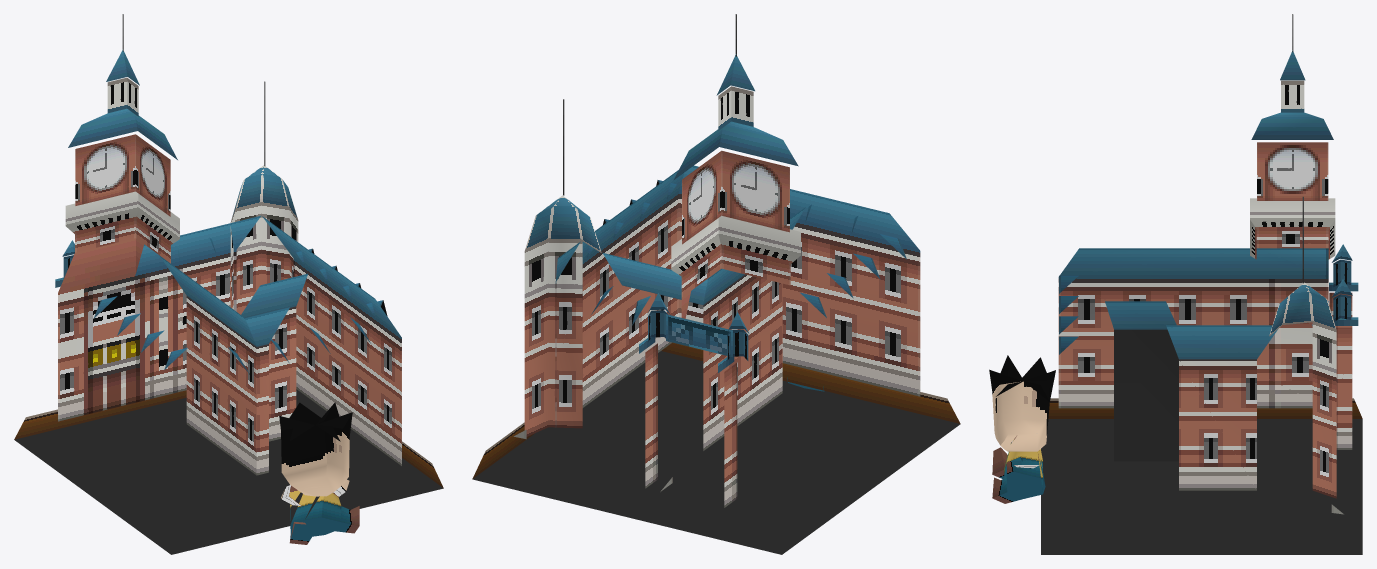
File: ps2_save-icons_sakurataisenatsukichishioni.glb
3 renders of one model, left to right at view 1: azimuth 30°, elevation 25°; view 2: azimuth 150°, elevation 25°; view 3: azimuth 270°, elevation 25°, orthographic. The views are drawn at different scales.
Parts seen in each view (by area): view 1: icon.ico; view 2: icon.ico; view 3: icon.ico.
Part boxes in pixels (x1,y1,x2,y2): icon.ico: (14, 14, 443, 554); icon.ico: (472, 14, 960, 554); icon.ico: (989, 14, 1362, 554).
Size of the model in its own units: 2.8 by 4.24 by 3.25.
1 material, 1 textured.
